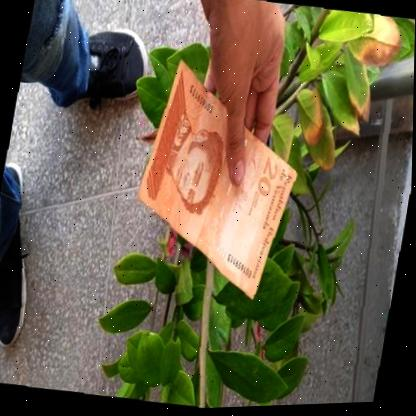twenty-front-vef: (121, 51, 316, 308)
